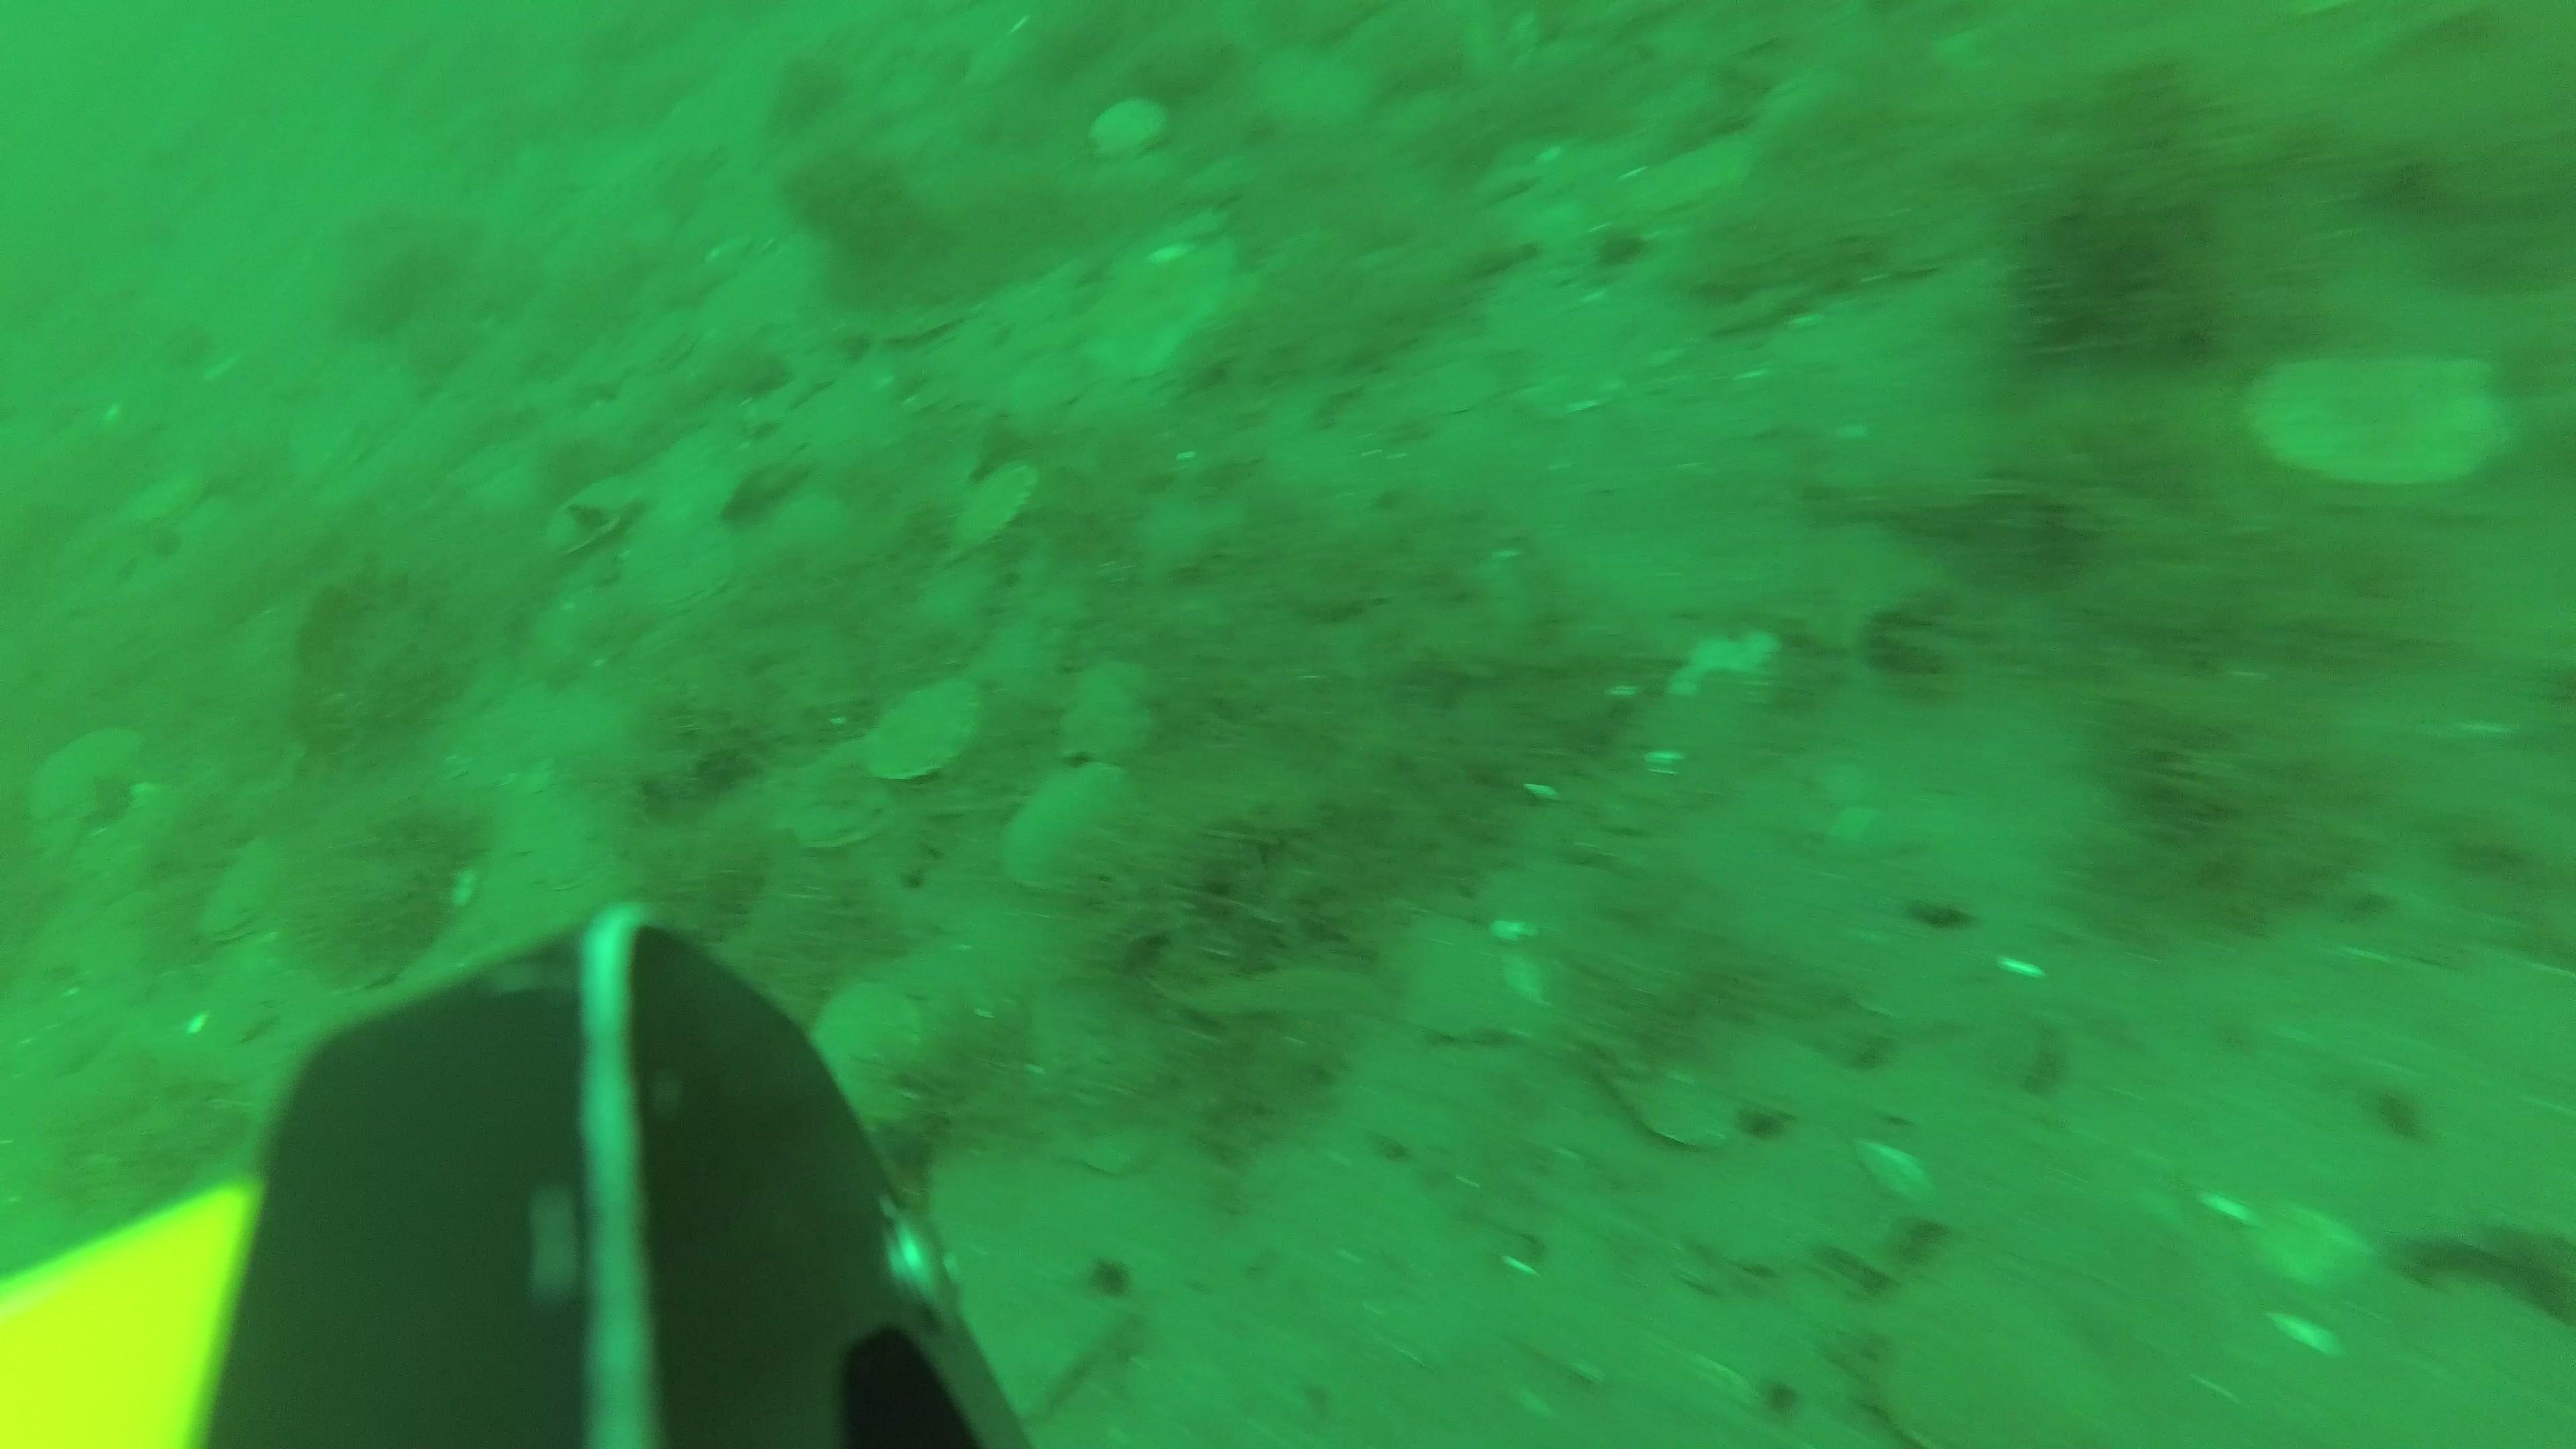scallop: (1882, 1269, 2100, 1449), (2256, 352, 2511, 492), (812, 989, 938, 1111), (1394, 916, 1516, 1040), (1008, 775, 1139, 885), (791, 747, 920, 853), (858, 683, 991, 782), (623, 508, 725, 626), (16, 734, 143, 824), (1629, 140, 1764, 225), (945, 469, 1035, 573), (1645, 1063, 1743, 1150), (547, 478, 648, 559), (195, 844, 272, 934), (1085, 101, 1175, 166), (879, 297, 975, 356)
starfish: (1074, 230, 1231, 373)
